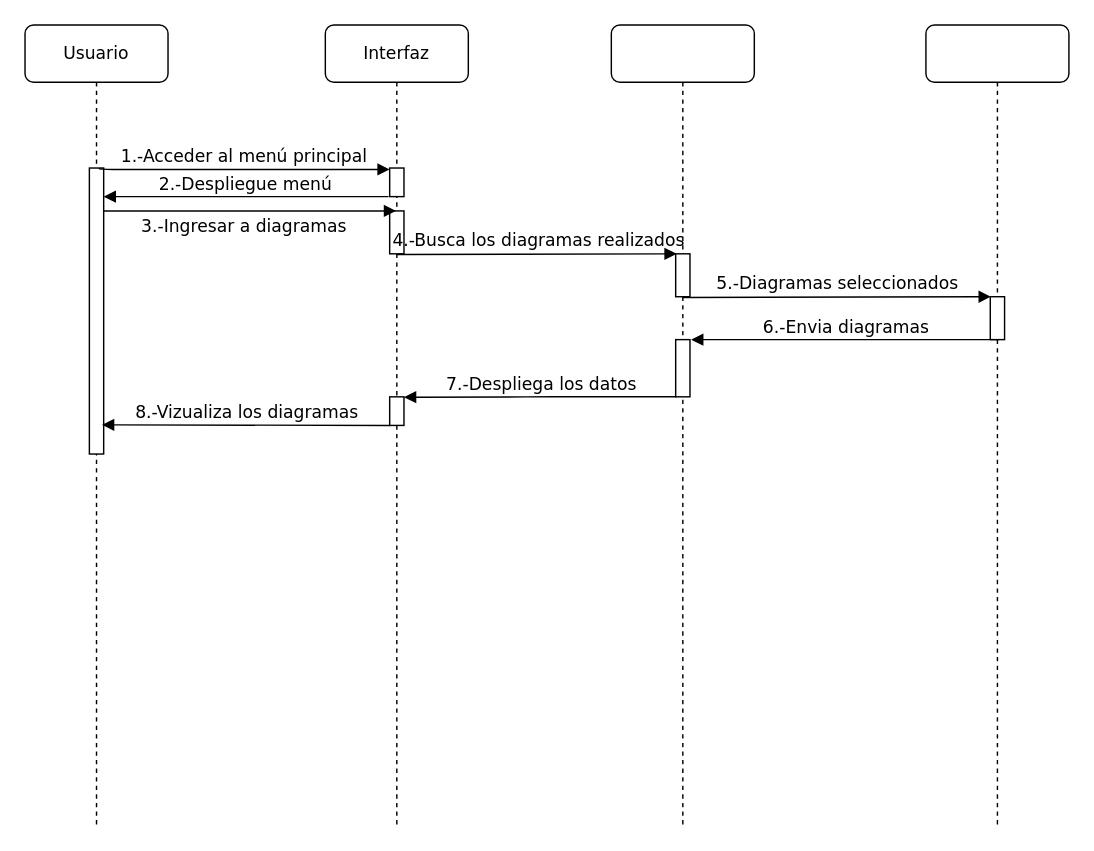
The diagram is 1094 pixels wide and 851 high, and some of its shapes have lost their labels. Here are the shapes that lost their labels. From the top down, the box of each, then its label:
(610, 24, 754, 826): Capa de negocio
(924, 24, 1069, 826): Base de datos
